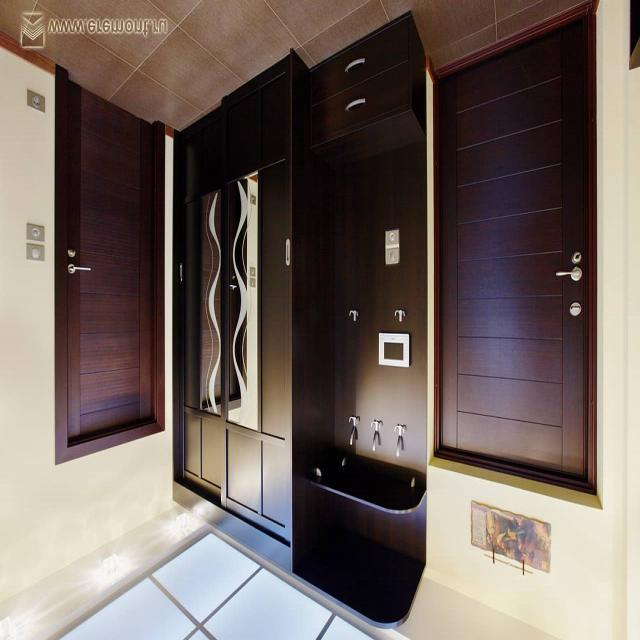close: (436, 19, 596, 460), (59, 97, 163, 460)
